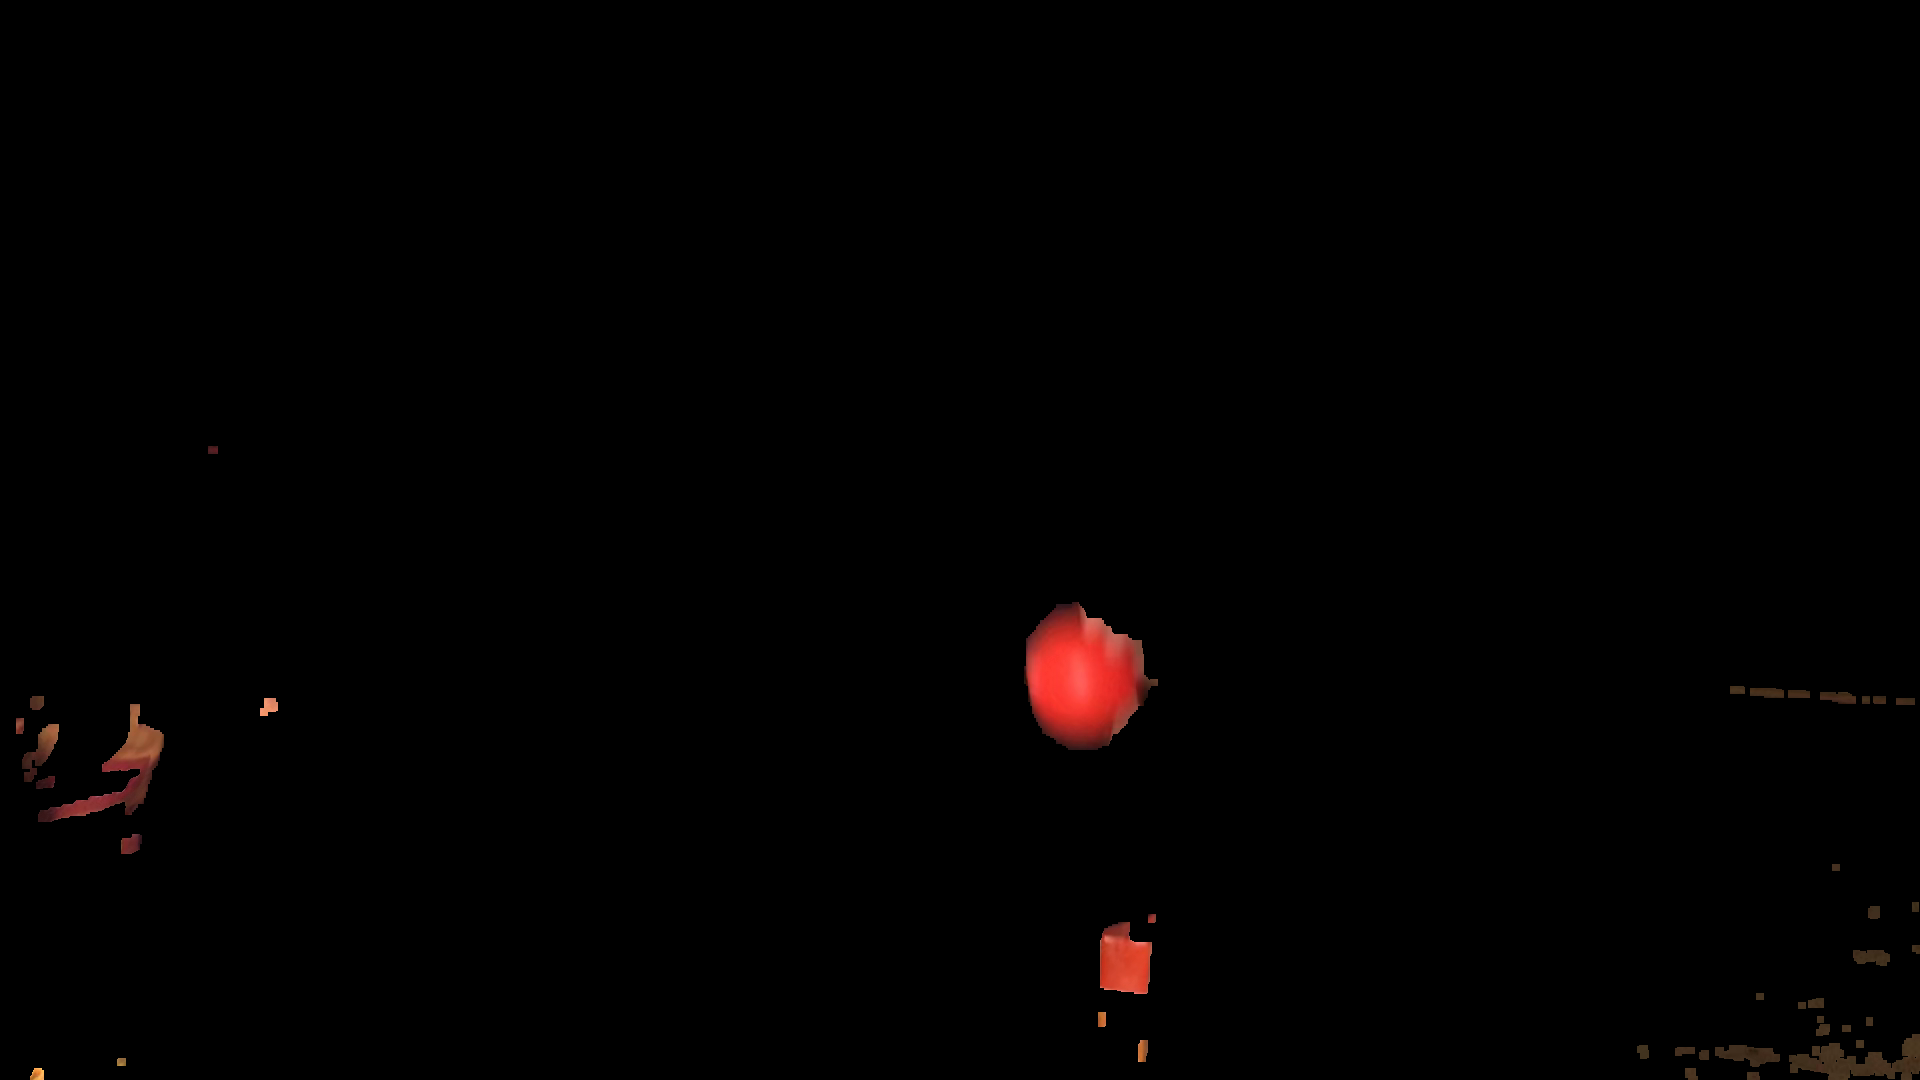Ball: (1015, 607, 1145, 742)
